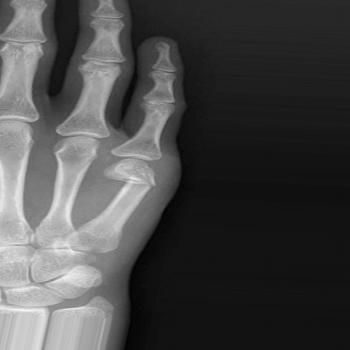Fracture: (96, 165, 158, 191)
